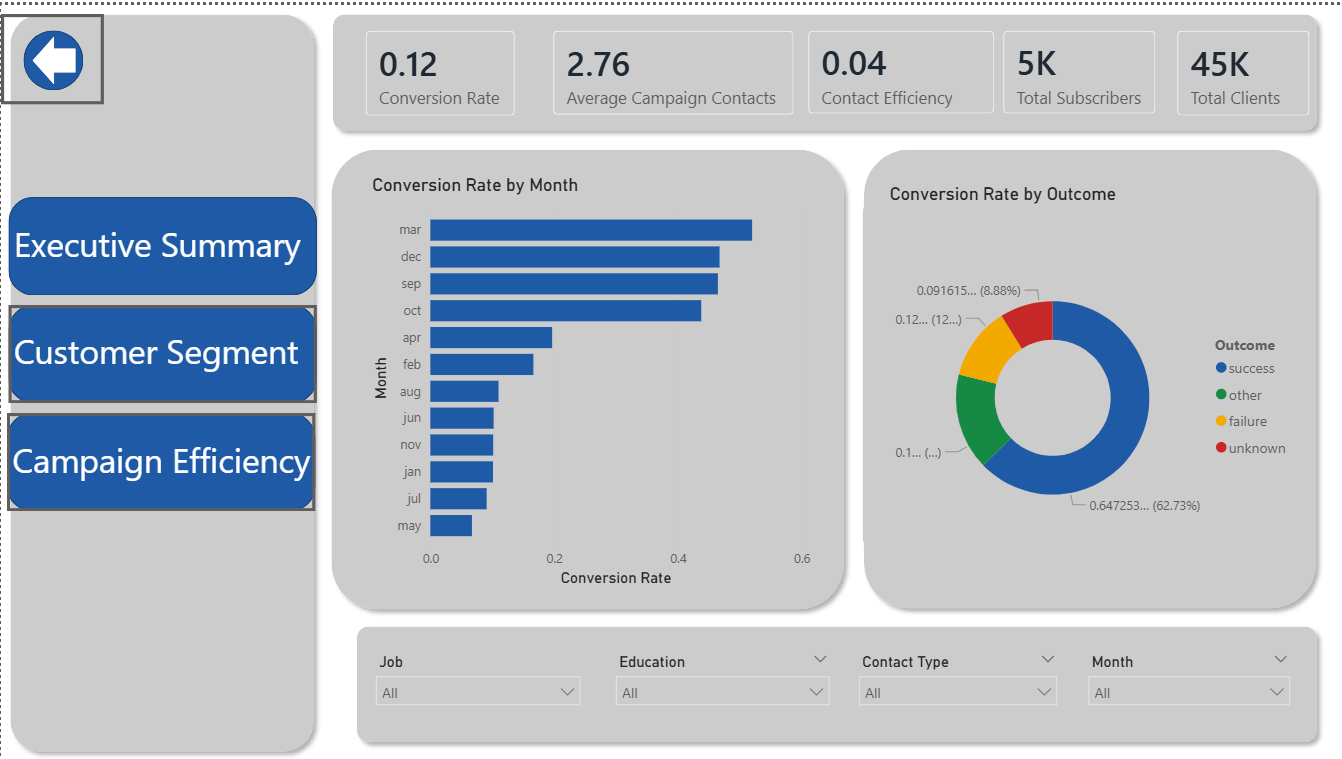

The dashboard page shown, as its layout file describes it:
{"tool":"powerbi","page":{"name":"Executive Summary","canvas":[1280,720],"ordinal":0},"visuals":[{"type":"shape","box":[306.7,0,955,128.3],"z":0},{"type":"shape","box":[0,0,306.7,720],"z":1000},{"type":"shape","box":[306,128,506,456],"z":2000},{"type":"shape","box":[812,154,430,396],"z":3000},{"type":"barChart","fields":{"Category":["Bank Marketing.Month"],"Y":["Bank Marketing.Conversion Rate"]},"box":[348.3,161.7,426.7,396.7],"z":4000},{"type":"group","id":"g1","title":"Group 2","box":[330,583.3,933.3,128.3],"z":5000},{"type":"shape","box":[813.3,128.3,448.3,455],"z":6000},{"type":"donutChart","fields":{"Category":["Bank Marketing.Previous Campaign Outcome"],"Y":["Bank Marketing.Conversion Rate"]},"box":[841.7,170,396.7,388.3],"z":7000},{"type":"shape","box":[330,583.3,932,128],"z":7000,"group":"g1"},{"type":"group","id":"g2","title":"Group 1","box":[347.4,612.2,890,70],"z":7500,"group":"g1"},{"type":"cardVisual","fields":{"Data":["Bank Marketing.Conversion Rate"]},"box":[330,6.7,176.7,115],"z":8000},{"type":"cardVisual","fields":{"Data":["Bank Marketing.Total Subscribers"]},"box":[936.7,7.5,179.2,113.3],"z":9000},{"type":"cardVisual","fields":{"Data":["Bank Marketing.Contact Efficiency"]},"box":[751.7,7.5,211.7,113.3],"z":10000},{"type":"slicer","fields":{"Values":["Bank Marketing.Contact Type"]},"box":[807.1,612.2,208.8,69.3],"z":10000,"group":"g2"},{"type":"cardVisual","fields":{"Data":["Bank Marketing.Average Campaign Contacts"]},"box":[508.3,7.5,263.3,114.2],"z":11000},{"type":"slicer","fields":{"Values":["Bank Marketing.Month"]},"box":[1026.2,612.2,211.8,69.3],"z":11000,"group":"g2"},{"type":"cardVisual","fields":{"Data":["Bank Marketing.Total Clients"]},"box":[1103.3,6.7,160,115],"z":12000},{"type":"slicer","fields":{"Values":["Bank Marketing.Job"]},"box":[347.4,612.2,214.8,69.3],"z":12000,"group":"g2"},{"type":"group","id":"g3","title":"Group 3","box":[7.3,183.6,293.7,93.6],"z":13000},{"type":"shape","box":[7.3,183.6,293.7,93.6],"z":13000,"group":"g3"},{"type":"shape","box":[7.4,286.4,293.7,93.6],"z":13000,"group":"g4"},{"type":"shape","box":[6,388,293.7,93.6],"z":13000,"group":"g5"},{"type":"slicer","fields":{"Values":["Bank Marketing.Education"]},"box":[576.6,612.2,223.3,68.3],"z":13000,"group":"g2"},{"type":"textbox","box":[7.3,302.8,291.8,60],"z":13500,"group":"g4"},{"type":"textbox","box":[6.4,404.5,306.4,60],"z":13500,"group":"g5"},{"type":"group","id":"g4","title":"Group 3","box":[7.3,286.4,293.8,93.6],"z":14000},{"type":"actionButton","box":[7.4,286.4,293.7,93.6],"z":14000,"group":"g4"},{"type":"actionButton","box":[6,388,293.7,93.6],"z":14000,"group":"g5"},{"type":"group","id":"g5","title":"Group 3","box":[6,388,306.7,93.6],"z":15000},{"type":"shape","box":[21.9,24.8,57,57],"z":16000},{"type":"shape","box":[30,30.5,41,45.6],"z":17000},{"type":"actionButton","box":[0,8,98,86],"z":17001},{"type":"textbox","box":[7.9,200.4,291.8,60],"z":17001,"group":"g3"}]}

Visuals, with their boxes in screenshot pixels (x1, y1, x2, y2), scaled from the page's 1280x720 canvas onto the 1342x759 screenshot:
shape: <region>322, 0, 1323, 135</region>
shape: <region>0, 0, 322, 758</region>
shape: <region>321, 135, 851, 616</region>
shape: <region>851, 162, 1302, 580</region>
barChart - Bank Marketing.Month x Bank Marketing.Conversion Rate: <region>365, 170, 813, 589</region>
"Group 2" group: <region>346, 615, 1324, 750</region>
shape: <region>853, 135, 1323, 615</region>
donutChart - Bank Marketing.Previous Campaign Outcome x Bank Marketing.Conversion Rate: <region>882, 179, 1298, 589</region>
shape: <region>346, 615, 1323, 750</region>
"Group 1" group: <region>364, 645, 1297, 719</region>
cardVisual - Bank Marketing.Conversion Rate: <region>346, 7, 531, 128</region>
cardVisual - Bank Marketing.Total Subscribers: <region>982, 8, 1170, 127</region>
cardVisual - Bank Marketing.Contact Efficiency: <region>788, 8, 1010, 127</region>
slicer - Bank Marketing.Contact Type: <region>846, 645, 1065, 718</region>
cardVisual - Bank Marketing.Average Campaign Contacts: <region>533, 8, 809, 128</region>
slicer - Bank Marketing.Month: <region>1076, 645, 1298, 718</region>
cardVisual - Bank Marketing.Total Clients: <region>1157, 7, 1324, 128</region>
slicer - Bank Marketing.Job: <region>364, 645, 589, 718</region>
"Group 3" group: <region>8, 194, 316, 292</region>
shape: <region>8, 194, 316, 292</region>
shape: <region>8, 302, 316, 401</region>
shape: <region>6, 409, 314, 508</region>
slicer - Bank Marketing.Education: <region>605, 645, 839, 717</region>
textbox: <region>8, 319, 314, 382</region>
textbox: <region>7, 426, 328, 490</region>
"Group 3" group: <region>8, 302, 316, 401</region>
actionButton: <region>8, 302, 316, 401</region>
actionButton: <region>6, 409, 314, 508</region>
"Group 3" group: <region>6, 409, 328, 508</region>
shape: <region>23, 26, 83, 86</region>
shape: <region>31, 32, 74, 80</region>
actionButton: <region>0, 8, 103, 99</region>
textbox: <region>8, 211, 314, 275</region>
